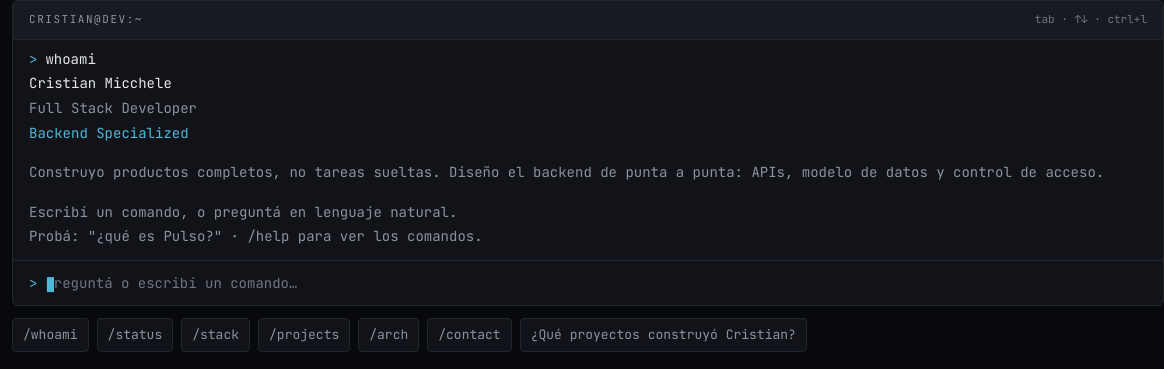
Test: Console — una sola, dos formas de hablarle › un comando se ejecuta al instante y de forma determinista
This screenshot has width=1164, height=369.
Type "status" into the field named "consola".
click(596, 283); type("status")  # box x1=45 y1=273 x2=1147 y2=293
Then press Enter
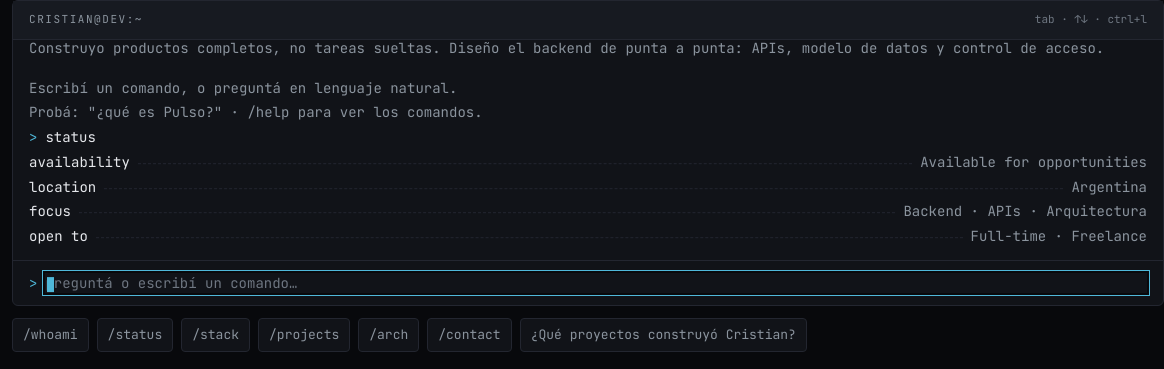
Result: the text "Argentina" is shown at x1=1071 y1=176 x2=1147 y2=198
